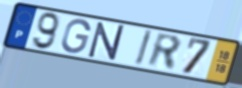7: (181, 36, 215, 77)
9: (31, 11, 61, 52)
G: (59, 18, 93, 55)
I: (132, 28, 155, 68)
N: (87, 21, 126, 62)
R: (146, 31, 183, 73)
